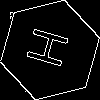H: (25, 25, 79, 73)
